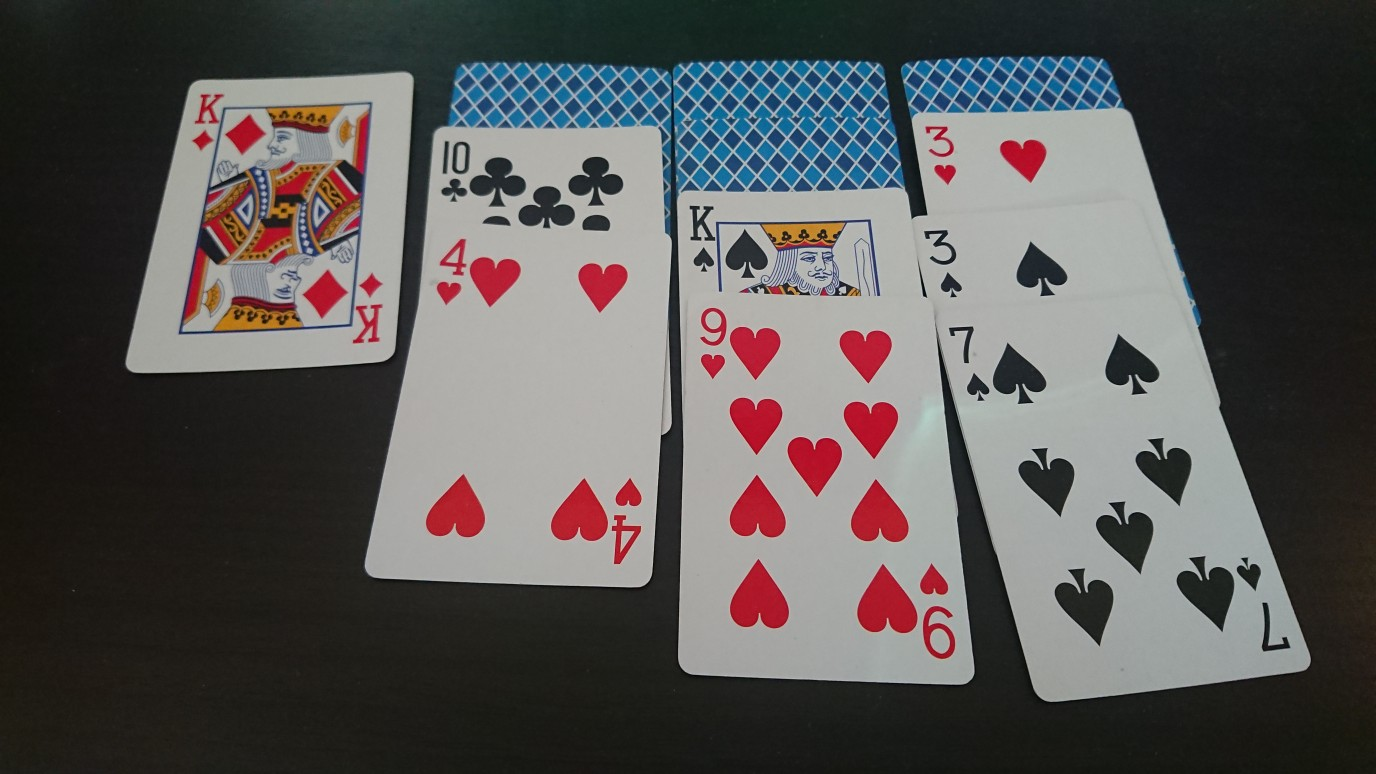10C: (439, 138, 472, 204)
3H: (923, 124, 958, 187)
3S: (921, 227, 965, 299)
4H: (435, 236, 468, 307)
7S: (945, 324, 991, 404)
9H: (696, 305, 728, 381)
BACK: (677, 118, 904, 191), (450, 62, 672, 127), (674, 60, 890, 120), (901, 55, 1127, 111)
KD: (189, 91, 226, 154)
KS: (684, 202, 718, 275)
